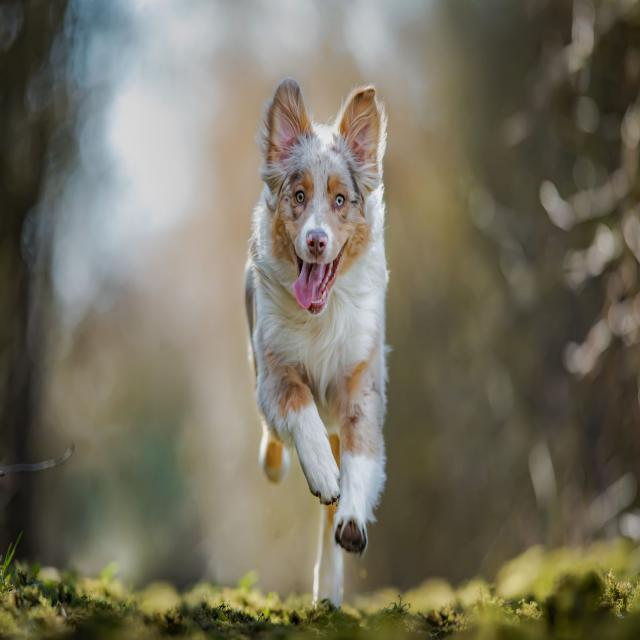dogs: (241, 70, 396, 614)
